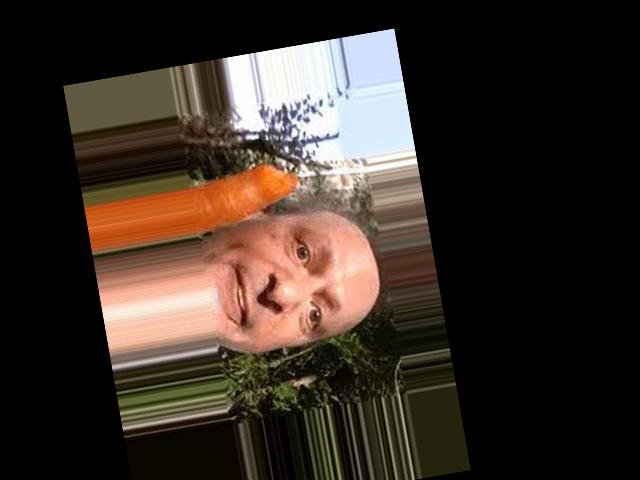carrot: (185, 157, 308, 238)
